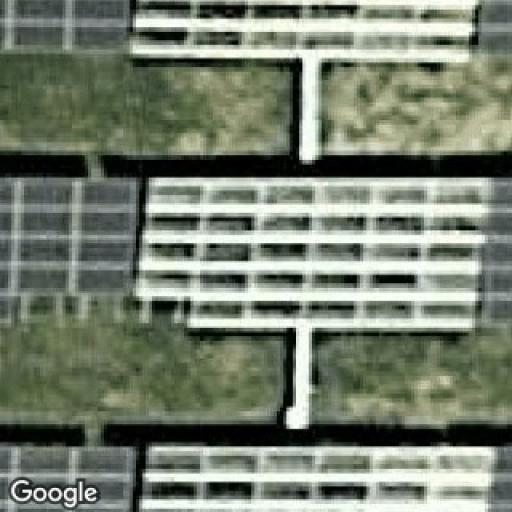solar-panel: (0, 171, 512, 331), (0, 441, 512, 512), (0, 0, 512, 59)
